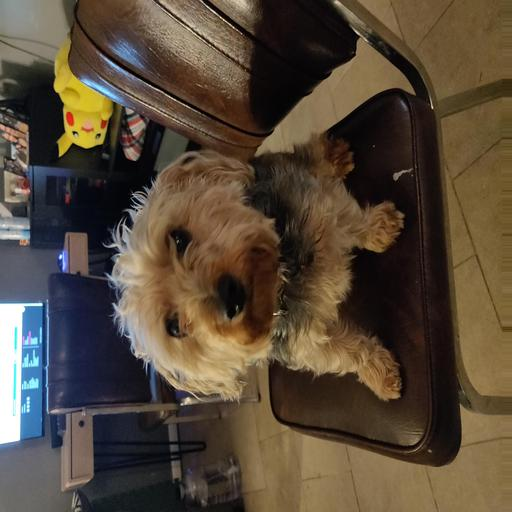dog: (97, 152, 344, 399)
